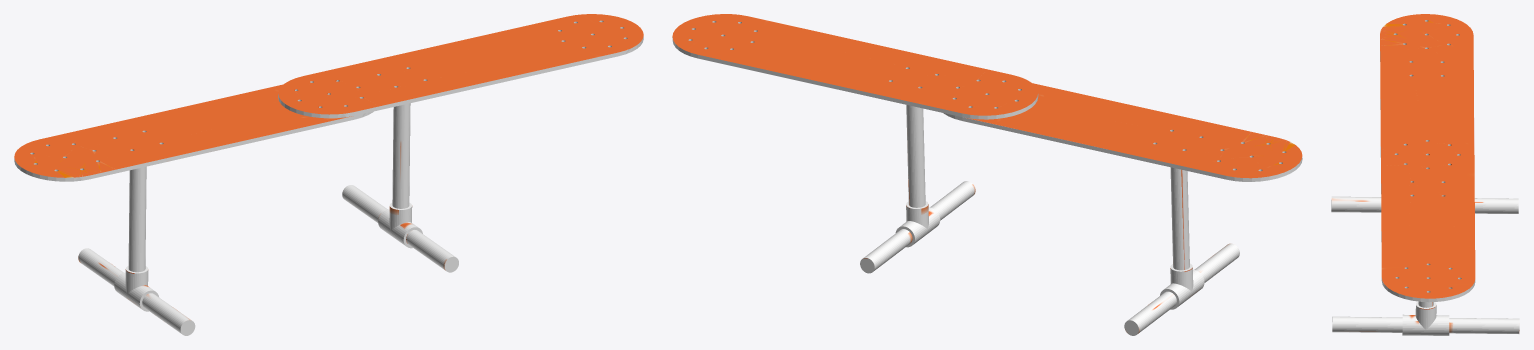
Rendered from PathMarkers2023.dae.
The picture shows the model from 3 angles, left to right: view 1: azimuth 30°, elevation 25°; view 2: azimuth 150°, elevation 25°; view 3: azimuth 270°, elevation 25°; orthographic projection. The views are drawn at different scales.
Visible parts, largest first — view 1: 2PathBlocksInALine; view 2: 2PathBlocksInALine; view 3: 2PathBlocksInALine.
Boxes of the visible parts, x1,y1,x2,y2 form: 2PathBlocksInALine: (14,14,643,335); 2PathBlocksInALine: (672,14,1302,335); 2PathBlocksInALine: (1331,14,1519,335).
Size of the model in its own units: 1.32 by 0.3804 by 0.3371.
Materials: 1 (1 with a texture image).
